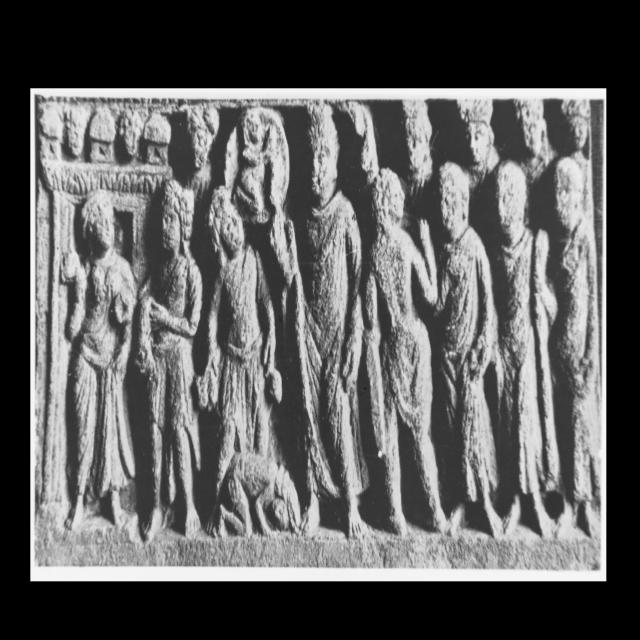buddha-standing: (271, 104, 368, 536)
